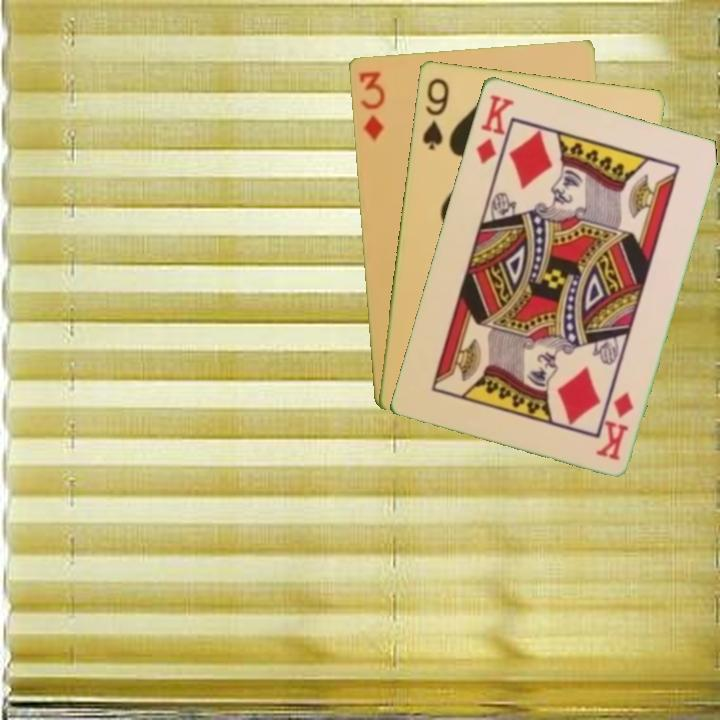3d: (355, 67, 387, 144)
9s: (418, 74, 452, 153)
Kd: (472, 90, 517, 166), (593, 387, 636, 463)
